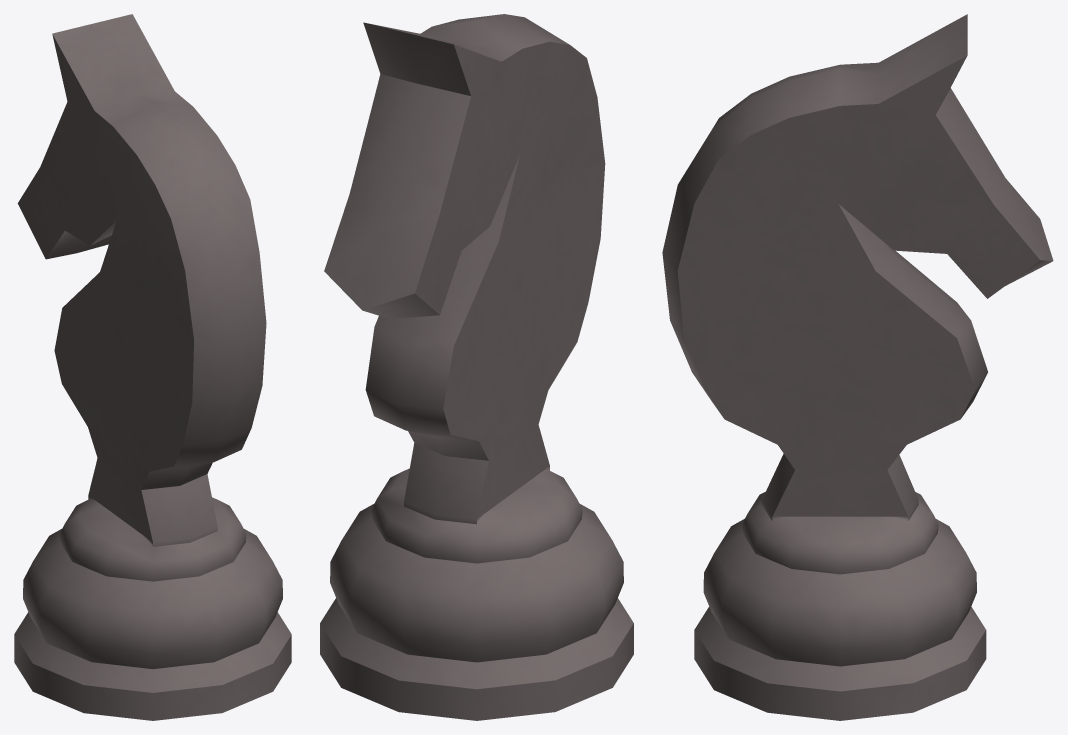
Rendered from Chess_Black_horse.fbx.
3 renders of one model, left to right at view 1: azimuth 30°, elevation 25°; view 2: azimuth 150°, elevation 25°; view 3: azimuth 270°, elevation 25°, orthographic. The views are drawn at different scales.
Visible parts, largest first — view 1: Chess_pawn.001; view 2: Chess_pawn.001; view 3: Chess_pawn.001.
Part boxes in pixels (x1,y1,x2,y2): Chess_pawn.001: [14, 14, 291, 720]; Chess_pawn.001: [320, 14, 633, 720]; Chess_pawn.001: [662, 14, 1053, 720].
Size of the model in its own units: 22.17 by 52.36 by 29.71.
